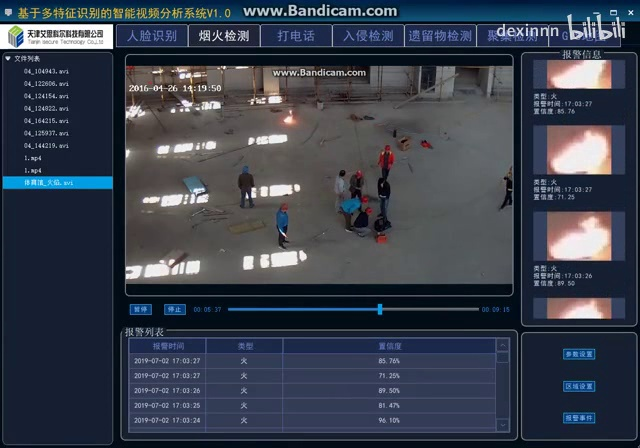fire: (279, 109, 297, 127)
